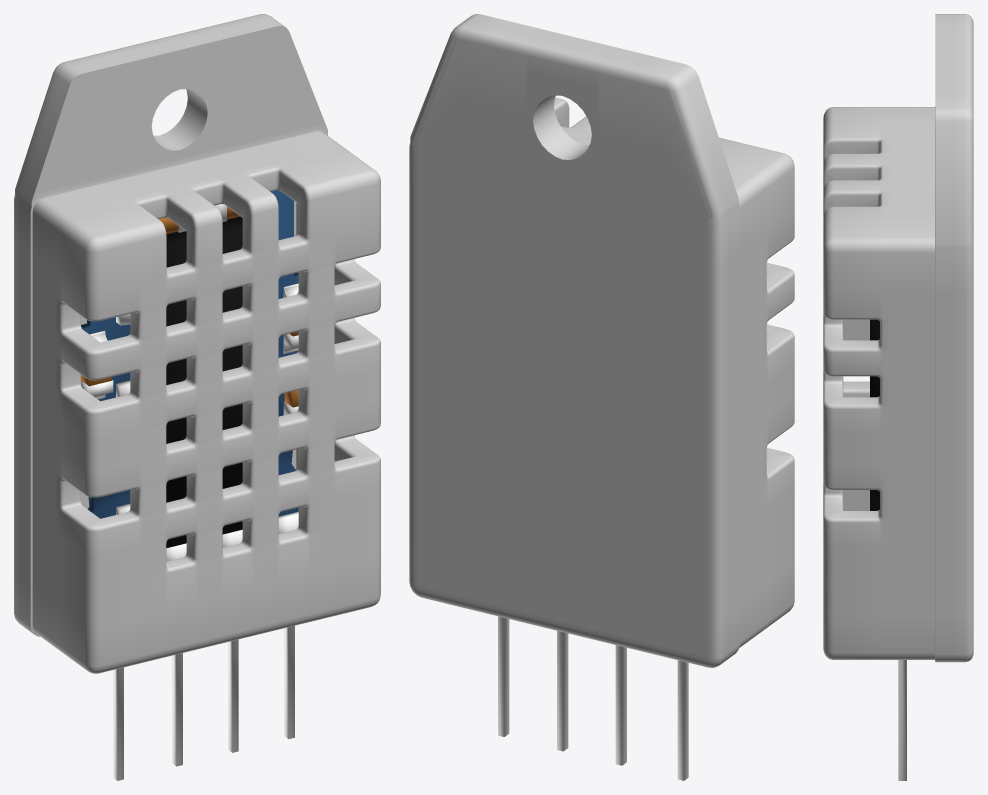
Rendered from SensorDHT22 (New Model).fbx.
3 renders of one model, left to right at view 1: azimuth 30°, elevation 25°; view 2: azimuth 150°, elevation 25°; view 3: azimuth 270°, elevation 25°, orthographic. The views are drawn at different scales.
Parts seen in each view (by area): view 1: body.002, Inside.001; view 2: body.002, Inside.001; view 3: body.002, Inside.001.
Boxes of the visible parts, x1,y1,x2,y2 form: body.002: (14, 14, 380, 673); Inside.001: (81, 190, 298, 780); body.002: (409, 14, 794, 667); Inside.001: (498, 616, 688, 780); body.002: (823, 14, 973, 662); Inside.001: (870, 319, 906, 780).
Bounding box in the file's own units: 4.86 × 10.86 × 2.2.
